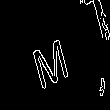M_N: (33, 23, 77, 87)
